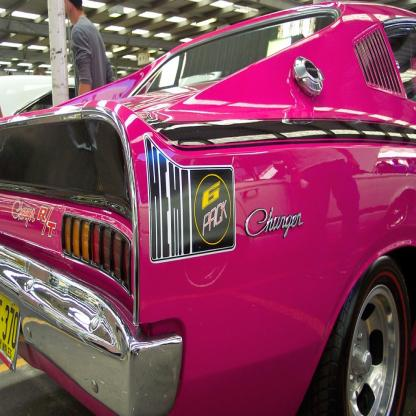Car: (15, 18, 408, 416)
